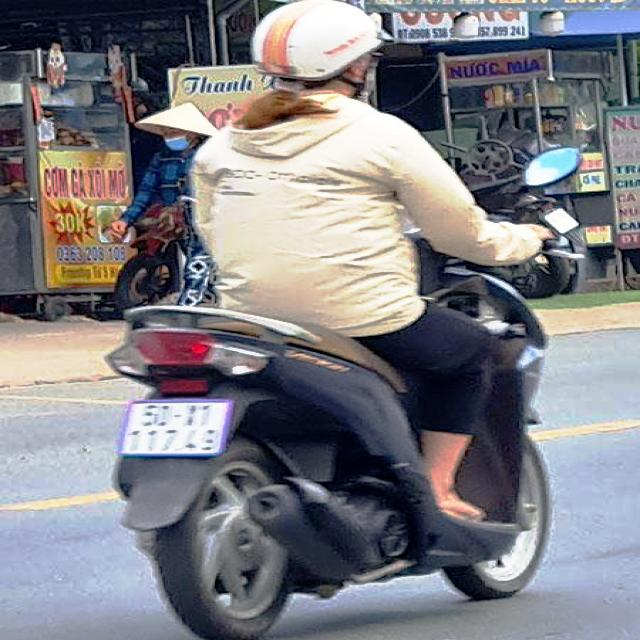license_plate: (125, 401, 234, 458)
